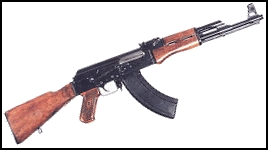rifle: (3, 8, 261, 142)
